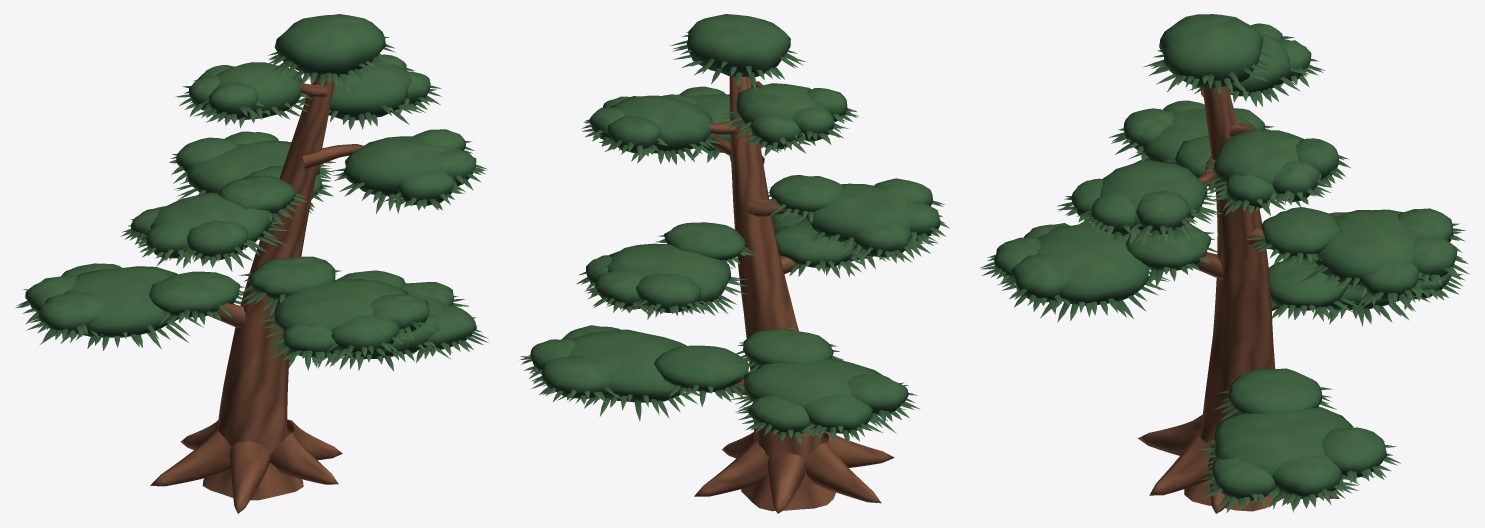
The model's file is Mtn_Pine.fbx.
3 renders of one model, left to right at view 1: azimuth 30°, elevation 25°; view 2: azimuth 150°, elevation 25°; view 3: azimuth 270°, elevation 25°, orthographic. The views are drawn at different scales.
Visible parts, largest first — view 1: Mtn_Pine; view 2: Mtn_Pine; view 3: Mtn_Pine.
Part boxes in pixels (x1,y1,x2,y2): Mtn_Pine: (15, 14, 488, 513); Mtn_Pine: (518, 14, 949, 513); Mtn_Pine: (980, 14, 1469, 513).
Bounding box in the file's own units: 31.01 × 31.91 × 28.57.
